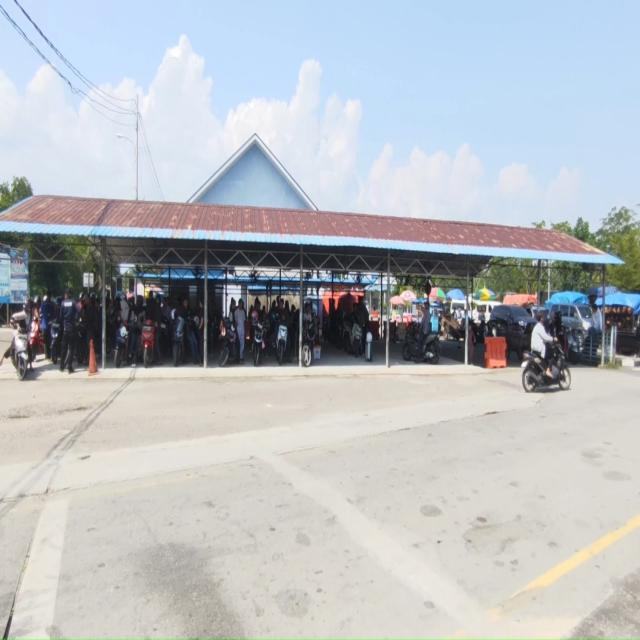Golongan II: (521, 342, 571, 393), (402, 323, 440, 364), (10, 312, 30, 381), (127, 310, 146, 364), (219, 319, 237, 367), (302, 318, 317, 368), (141, 320, 156, 368), (172, 316, 186, 367), (114, 322, 129, 368), (566, 329, 584, 364), (29, 319, 44, 359), (75, 322, 88, 365), (252, 320, 264, 366), (347, 322, 362, 358), (50, 320, 62, 364), (276, 324, 288, 365), (339, 316, 352, 352)
